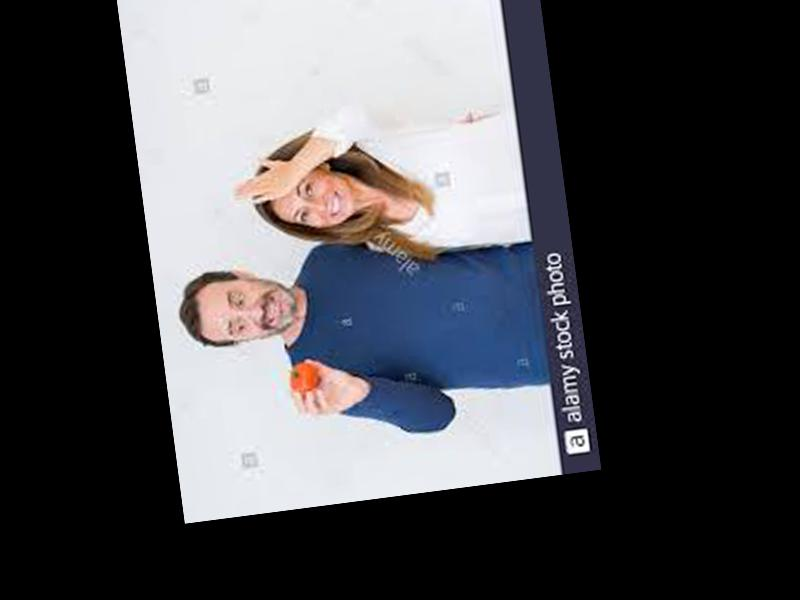Tomato: (285, 361, 319, 393)
